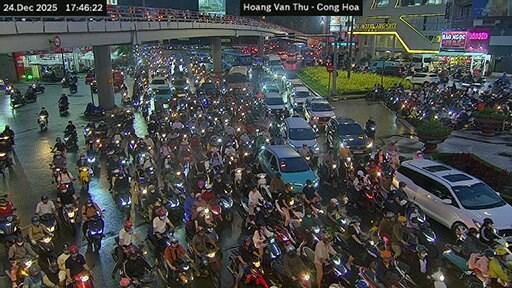motorbike: (441, 244, 482, 286), (25, 234, 57, 273), (271, 261, 310, 287), (156, 261, 192, 286), (198, 247, 220, 287), (121, 261, 153, 286), (323, 256, 348, 286), (163, 183, 182, 221), (391, 261, 416, 286), (86, 215, 103, 251), (217, 184, 233, 221), (16, 256, 35, 286), (0, 215, 19, 243), (61, 203, 77, 234), (263, 235, 281, 261), (115, 188, 131, 215), (357, 267, 378, 286), (39, 212, 57, 232), (71, 270, 92, 287), (86, 148, 98, 175), (9, 90, 25, 107), (431, 268, 445, 287), (83, 103, 103, 116), (80, 166, 90, 190), (64, 130, 76, 148), (0, 149, 9, 171), (300, 246, 313, 261), (364, 121, 374, 139), (22, 90, 35, 101), (38, 115, 47, 130), (32, 82, 44, 93), (57, 103, 67, 115), (121, 90, 130, 103), (69, 82, 76, 93), (188, 247, 191, 250)
